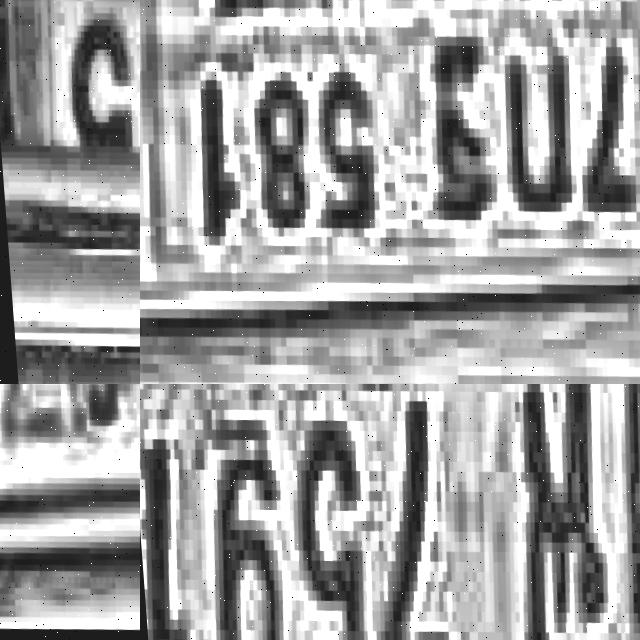license-plate: (140, 0, 640, 349), (140, 384, 640, 640), (0, 0, 140, 285), (0, 384, 140, 590)
